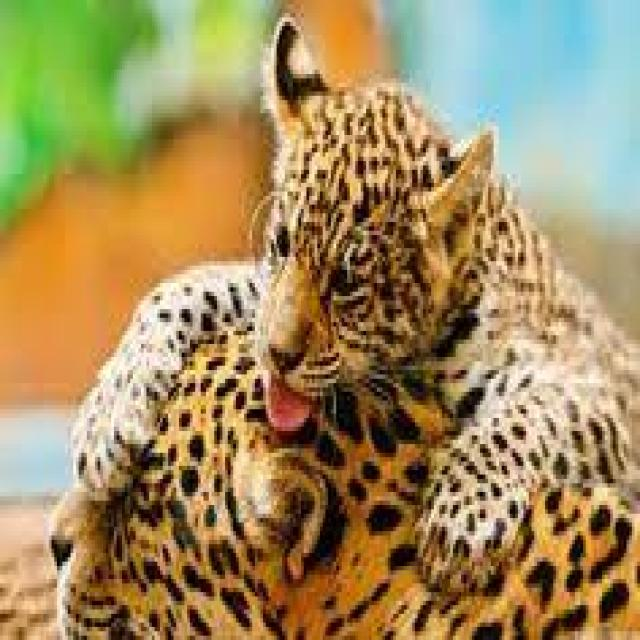Jaguar: (247, 13, 640, 536), (52, 322, 638, 640)
